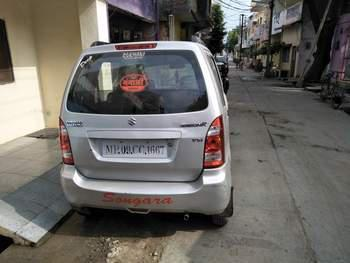licence-plate: (98, 135, 173, 161)
